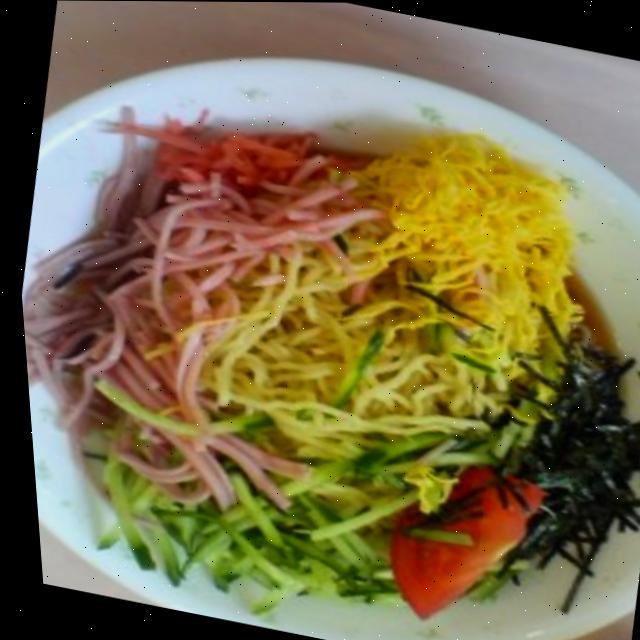面条主食: (4, 71, 640, 640)
